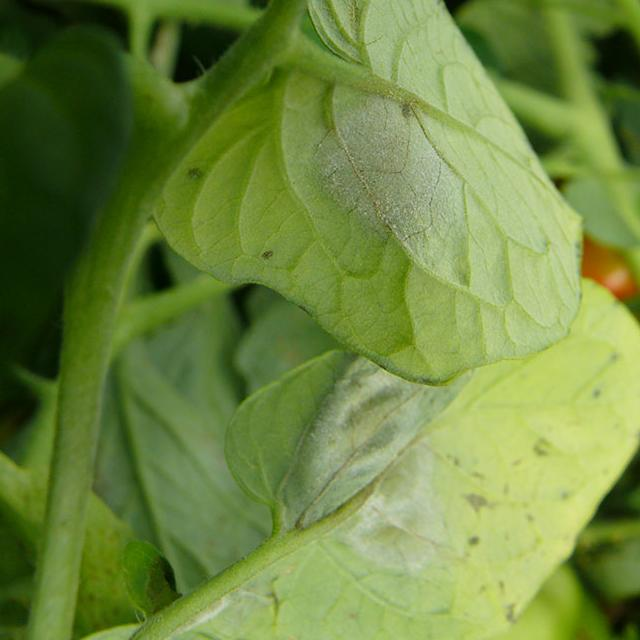Tomato leaf late blight: (165, 268, 640, 635), (148, 0, 582, 367)
